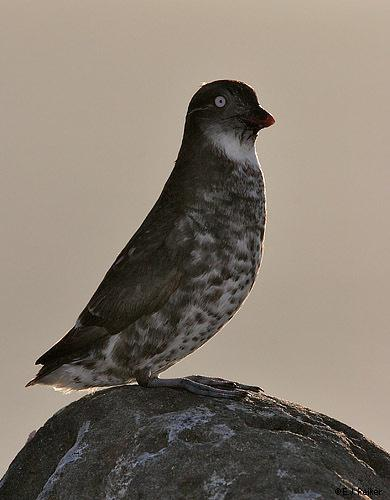006.Least_Auklet: (17, 80, 282, 404)
